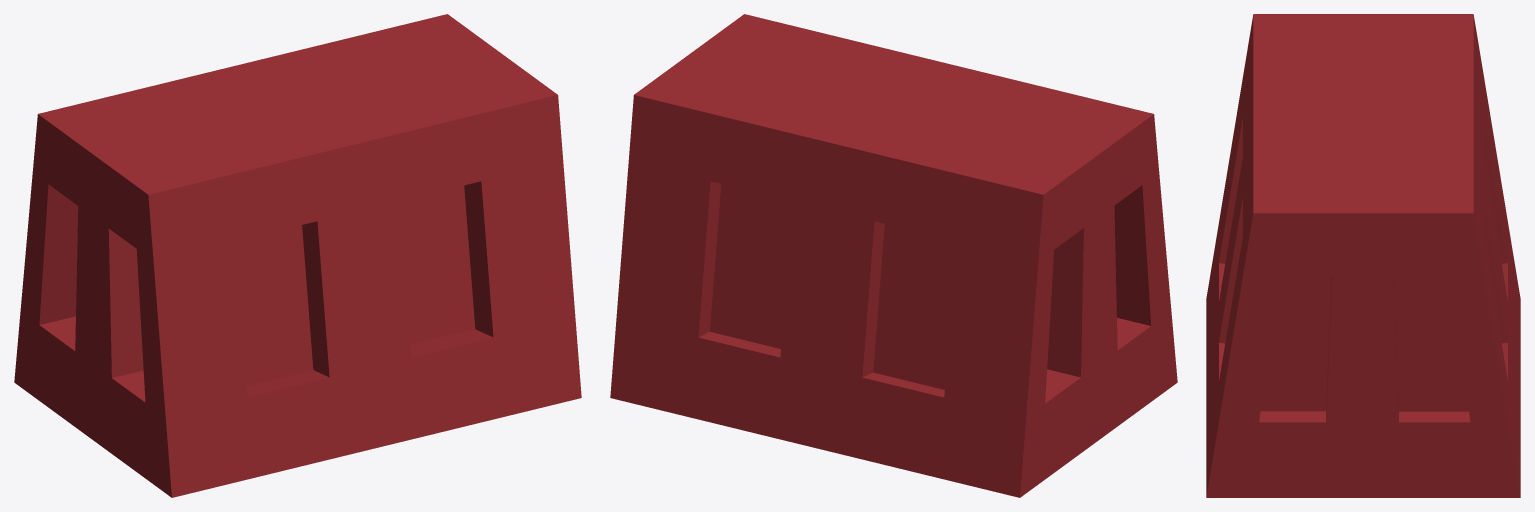
File: Tren SWS.fbx
The picture shows the model from 3 angles, left to right: view 1: azimuth 30°, elevation 25°; view 2: azimuth 150°, elevation 25°; view 3: azimuth 270°, elevation 25°; orthographic projection.
Parts seen in each view (by area): view 1: Cube; view 2: Cube; view 3: Cube.
Boxes of the visible parts, box(x1,y1,x2,y2) form: Cube: box(14, 14, 581, 497); Cube: box(610, 14, 1177, 497); Cube: box(1206, 14, 1520, 497).
Size of the model in its own units: 300 by 200 by 200.
Materials: 1 (1 with a texture image).
